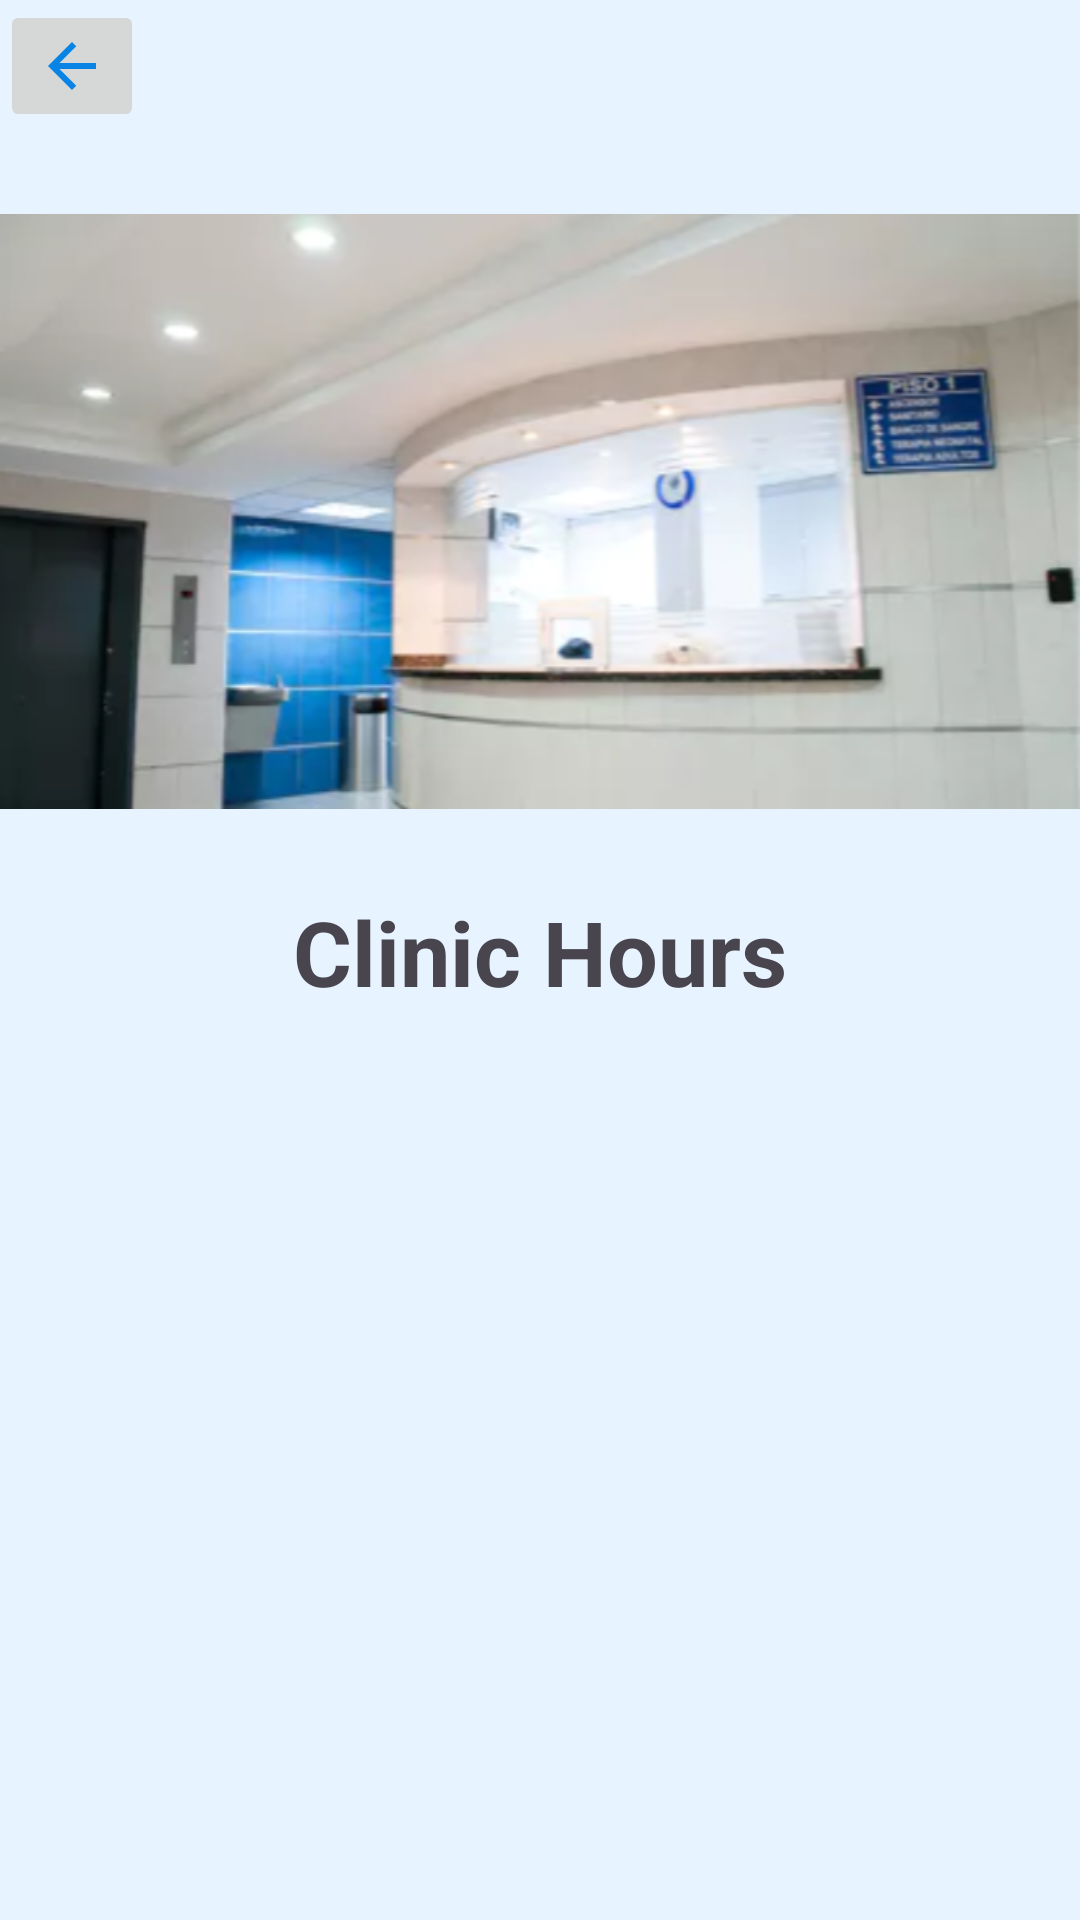

Where icons sit on this 1080*1920 app screen, as box=[x1, y1, x2, y2]:
back: box=[12, 18, 132, 114]
